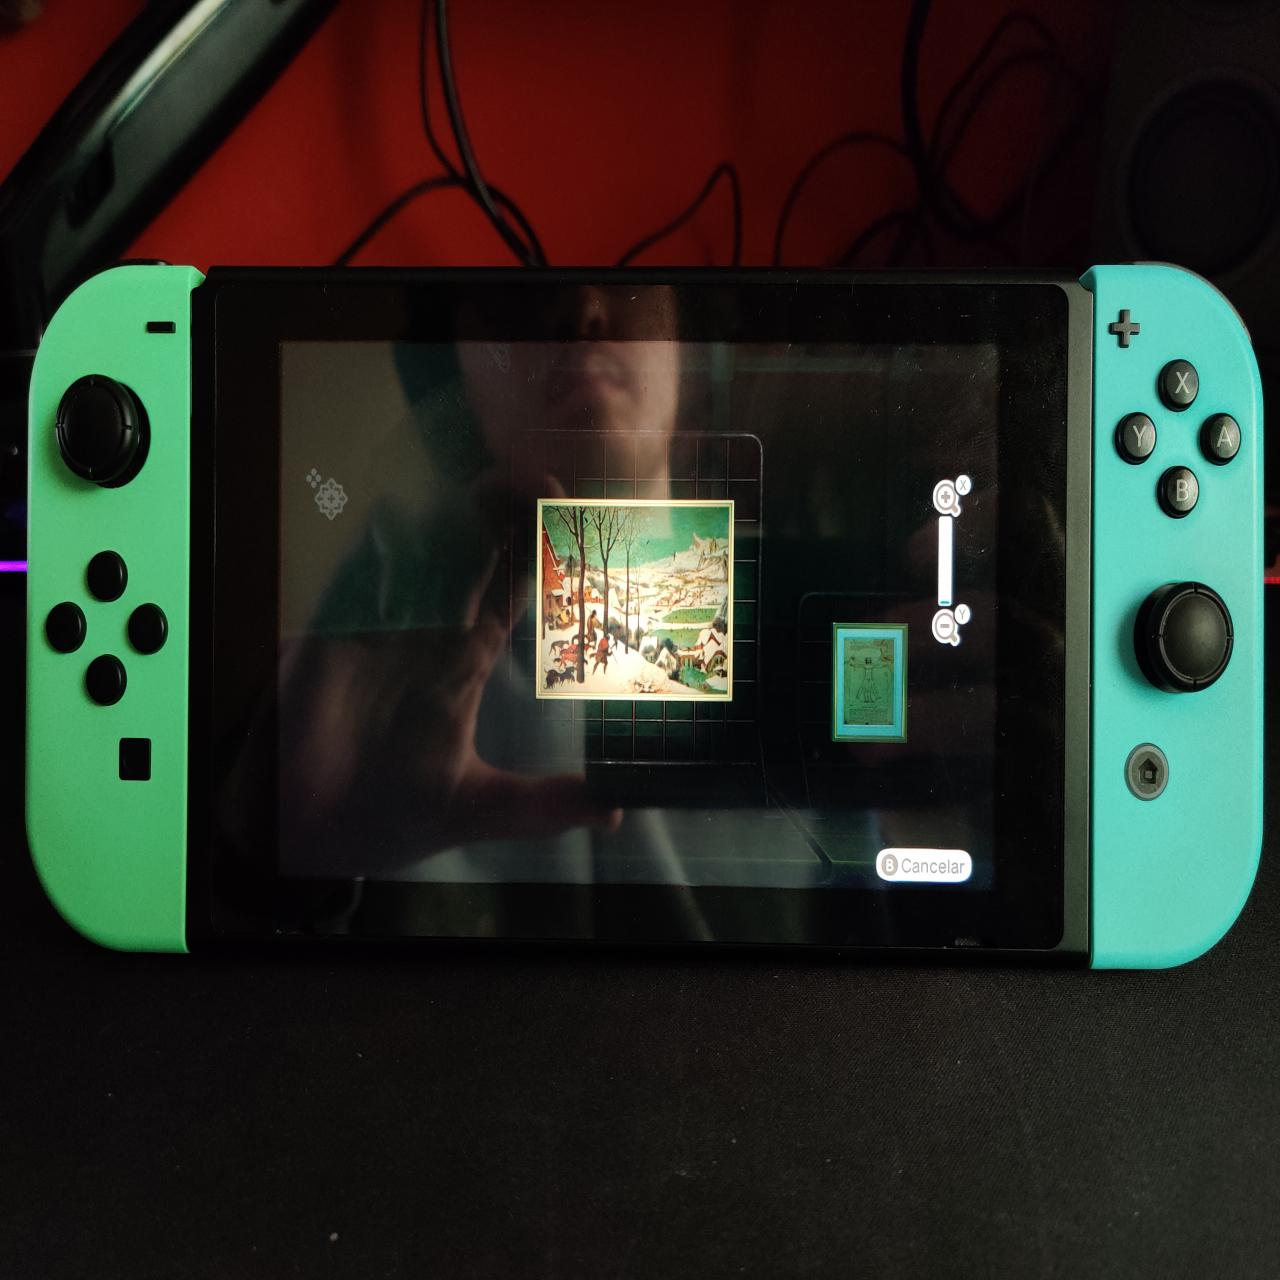HunterSnow: (547, 506, 728, 696)
